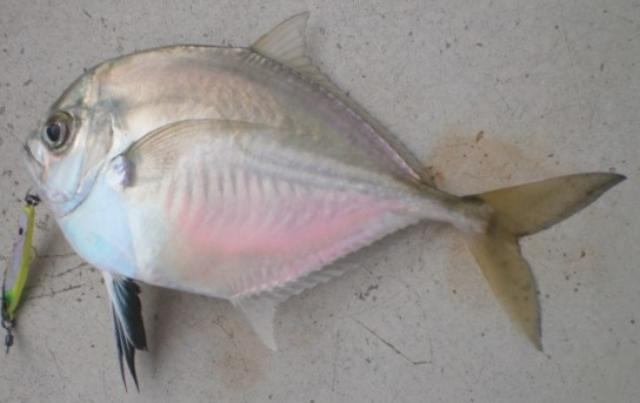Mulut: (14, 121, 54, 193)
Sirip Anal: (234, 212, 446, 344)
Sirip Dada: (110, 96, 292, 213)
Sirip Ekor: (452, 138, 634, 366)
Sirip Perut: (96, 265, 168, 403)
Sirip Punggung: (242, 6, 444, 190)
